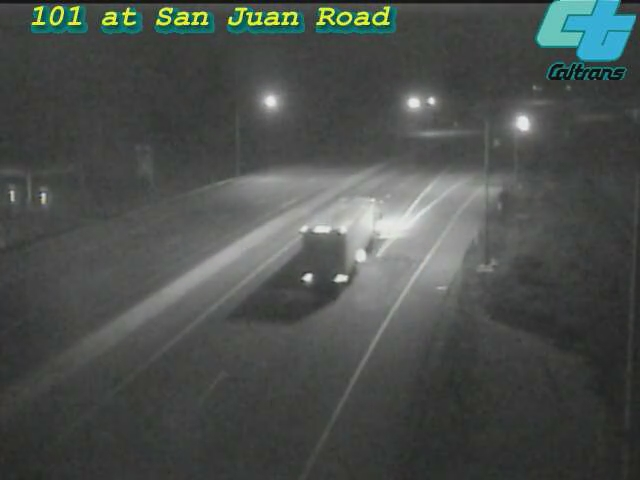vehicle: (310, 192, 390, 272), (496, 99, 546, 149)
